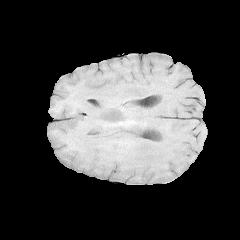glioma: (70, 104, 153, 165)
